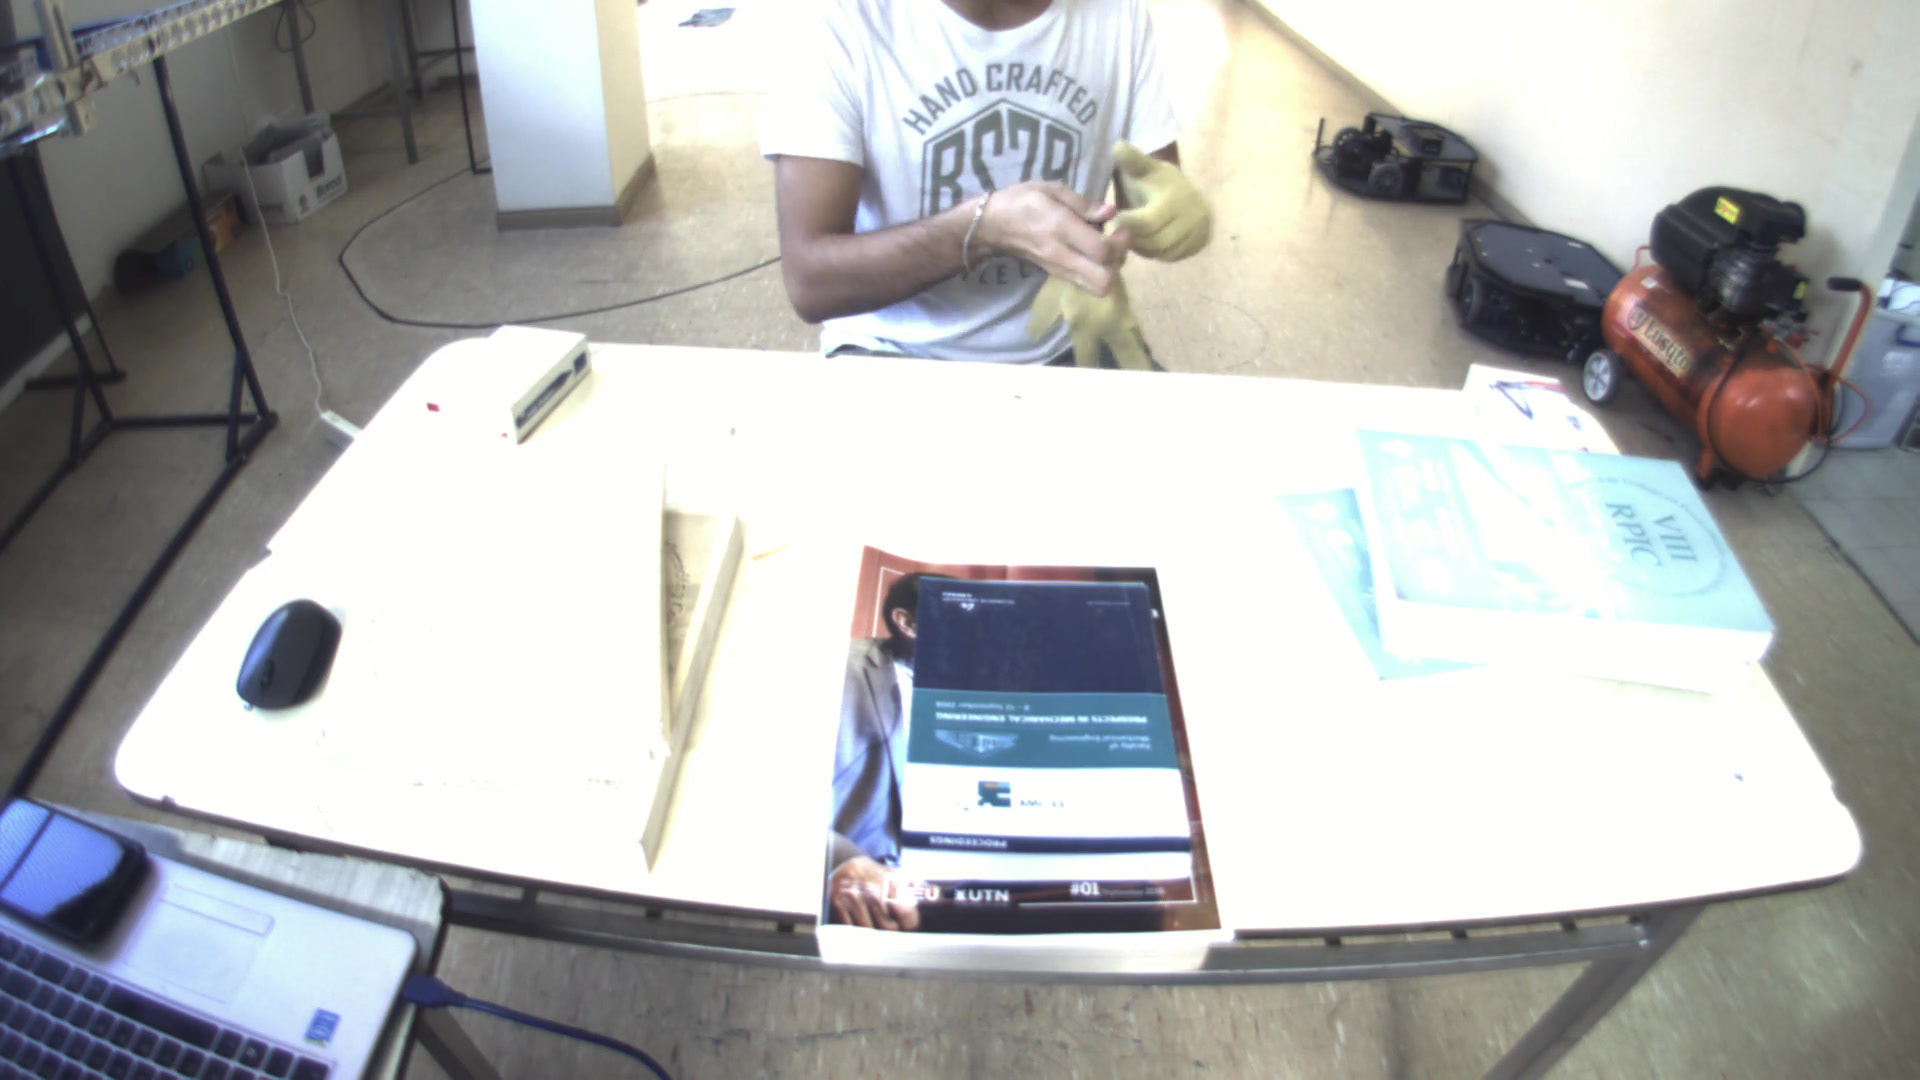hand: (963, 166, 1126, 285), (1102, 129, 1229, 262)
